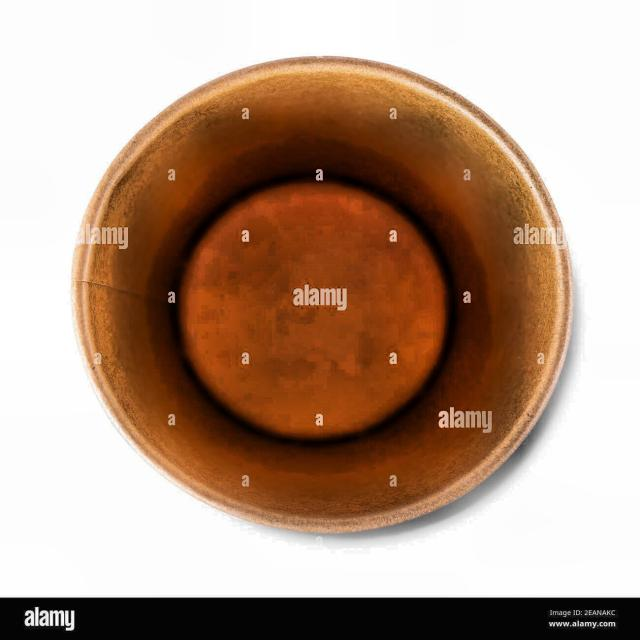Cup: (70, 51, 593, 553)
